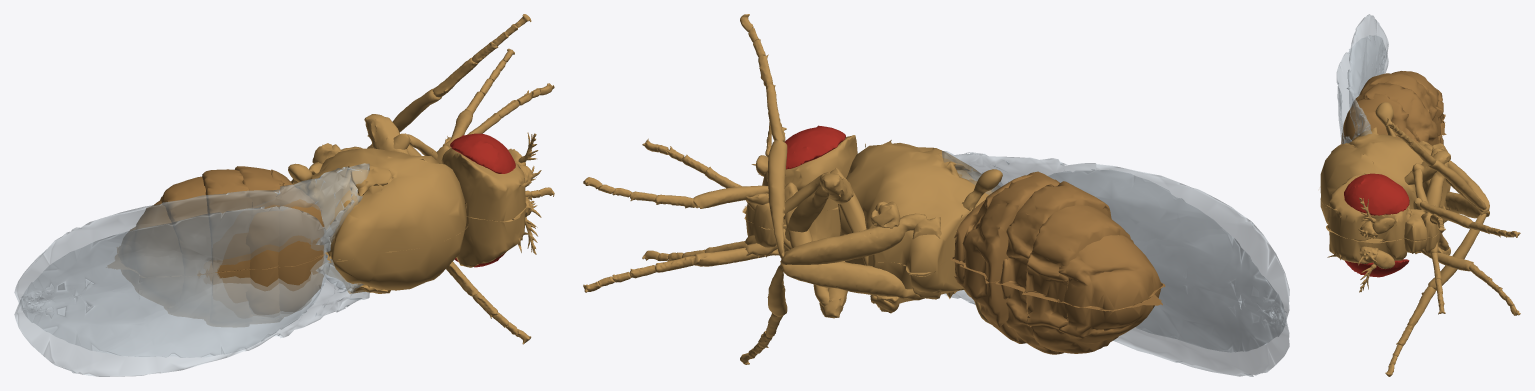
Rendered from fruit-fly.glb.
The picture shows the model from 3 angles, left to right: view 1: azimuth 30°, elevation 25°; view 2: azimuth 150°, elevation 25°; view 3: azimuth 270°, elevation 25°; orthographic projection. The views are drawn at different scales.
Parts seen in each view (by area): view 1: l_wing, r_wing, c_thorax, c_abdomen4, c_head, c_abdomen12, c_abdomen6, c_abdomen3, c_abdomen5, l_eye, lf_coxa, lh_tibia (+2 smaller); view 2: l_wing, r_wing, c_thorax, c_abdomen6, c_abdomen5, c_abdomen3, c_abdomen4, lh_trochanterfemur, rh_trochanterfemur, c_head, lh_tibia, l_eye (+14 smaller); view 3: c_thorax, c_head, l_wing, r_wing, l_eye, c_abdomen3, c_abdomen12, c_abdomen4, c_rostrum, rh_tibia, lh_tibia, c_abdomen5 (+19 smaller).
Part boxes in pixels (left/top/right/bottom): l_wing: left=14, top=163, right=369, bottom=357; r_wing: left=14, top=206, right=369, bottom=376; c_thorax: left=290, top=148, right=467, bottom=293; c_abdomen4: left=202, top=169, right=252, bottom=326; c_head: left=441, top=148, right=536, bottom=267; c_abdomen12: left=271, top=169, right=325, bottom=316; c_abdomen6: left=108, top=200, right=183, bottom=307; c_abdomen3: left=234, top=166, right=284, bottom=323; c_abdomen5: left=160, top=176, right=219, bottom=318; l_eye: left=450, top=133, right=515, bottom=173; lf_coxa: left=364, top=114, right=409, bottom=154; lh_tibia: left=367, top=88, right=441, bottom=148; l_wing: left=942, top=151, right=1289, bottom=352; r_wing: left=943, top=169, right=1289, bottom=376; c_thorax: left=838, top=140, right=999, bottom=303; c_abdomen6: left=1058, top=235, right=1165, bottom=344; c_abdomen5: left=1022, top=205, right=1133, bottom=353; c_abdomen3: left=960, top=171, right=1059, bottom=343; c_abdomen4: left=995, top=181, right=1111, bottom=354; lh_trochanterfemur: left=780, top=213, right=926, bottom=264; rh_trochanterfemur: left=780, top=261, right=924, bottom=300; c_head: left=758, top=135, right=857, bottom=241; lh_tibia: left=767, top=139, right=787, bottom=258; l_eye: left=785, top=125, right=845, bottom=169; c_thorax: left=1320, top=127, right=1450, bottom=224; c_head: left=1326, top=173, right=1411, bottom=263; l_wing: left=1344, top=14, right=1388, bottom=143; r_wing: left=1336, top=35, right=1388, bottom=143; l_eye: left=1344, top=173, right=1409, bottom=215; c_abdomen3: left=1352, top=83, right=1438, bottom=145; c_abdomen12: left=1341, top=93, right=1418, bottom=144; c_abdomen4: left=1359, top=72, right=1441, bottom=142; c_rostrum: left=1404, top=205, right=1442, bottom=253; rh_tibia: left=1428, top=213, right=1486, bottom=290; lh_tibia: left=1428, top=159, right=1486, bottom=209; c_abdomen5: left=1392, top=71, right=1446, bottom=144.
Bounding box in the file's own units: 0.00405 × 0.00219 × 0.00155.
